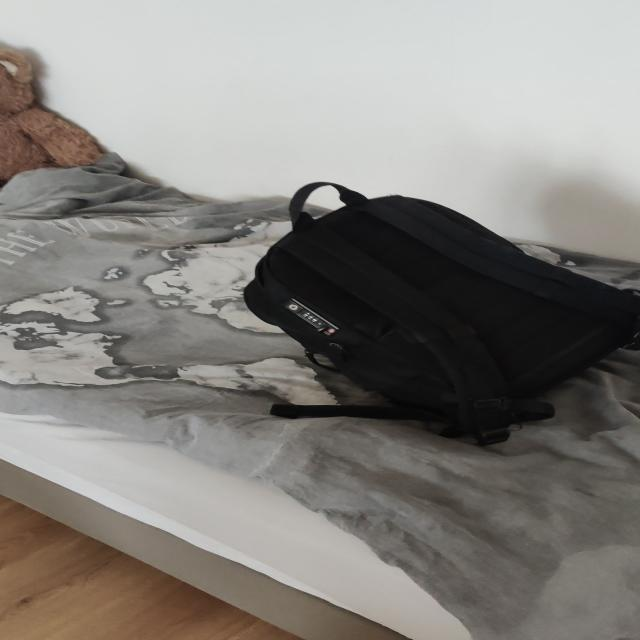backpack: (229, 174, 635, 445)
